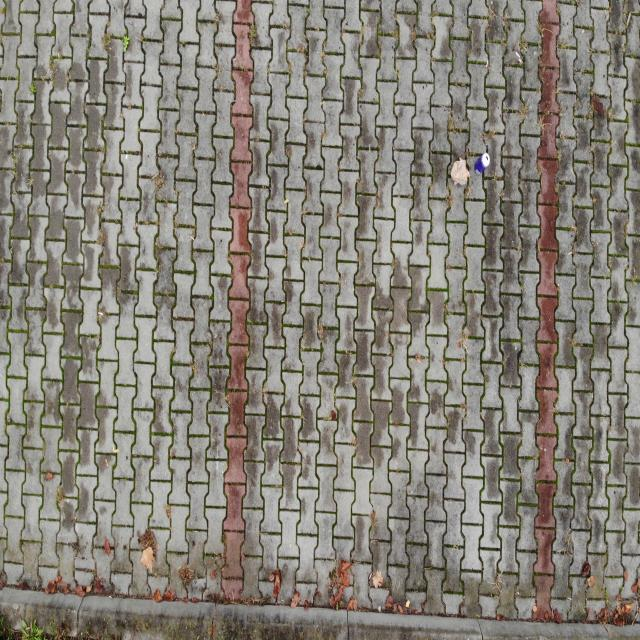rubbish: (450, 156, 470, 186), (473, 152, 489, 177)
